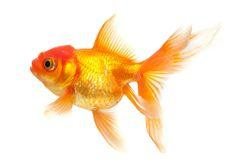goldfish: (22, 32, 184, 134)
